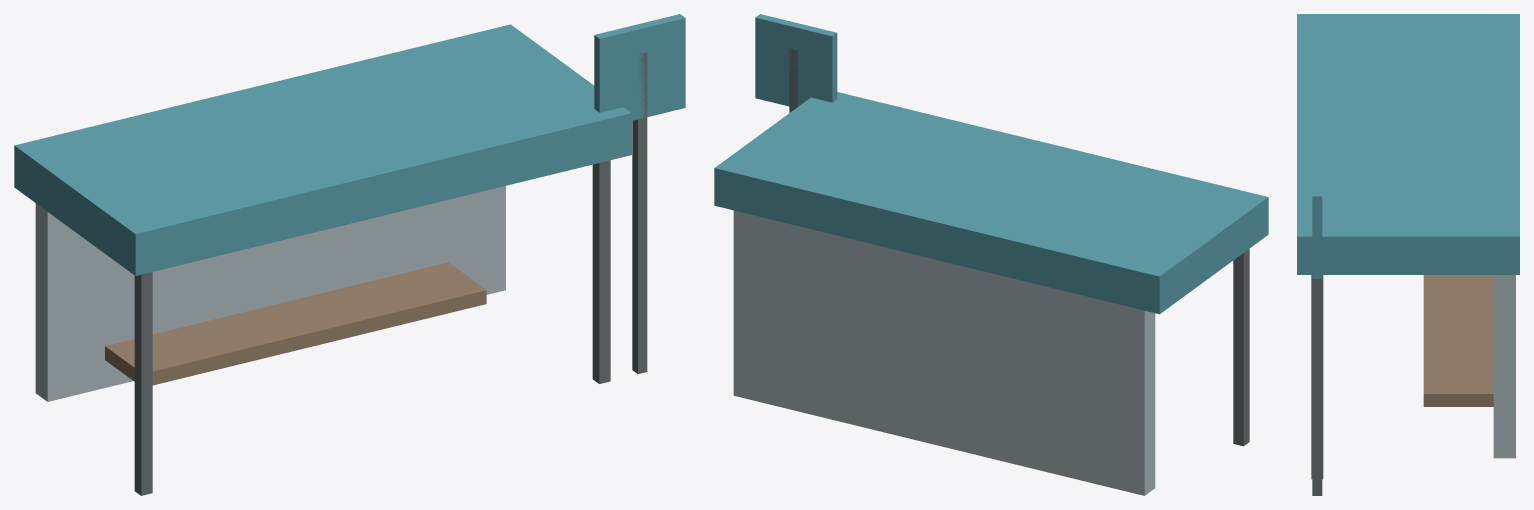
3 renders of one model, left to right at view 1: azimuth 30°, elevation 25°; view 2: azimuth 150°, elevation 25°; view 3: azimuth 270°, elevation 25°, orthographic. The views are drawn at different scales.
Parts seen in each view (by area): view 1: Visual; view 2: Visual; view 3: Visual.
Boxes of the visible parts, bbox=[...] form: Visual: bbox=[14, 14, 685, 495]; Visual: bbox=[714, 14, 1268, 495]; Visual: bbox=[1297, 14, 1519, 495].
Bounding box in the file's own units: 5.85 × 3.45 × 2.2.
